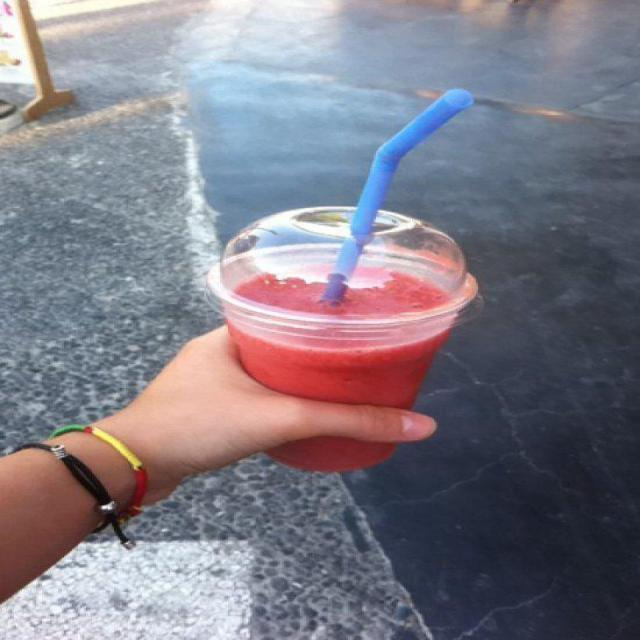cup-disposable: (207, 203, 482, 472)
